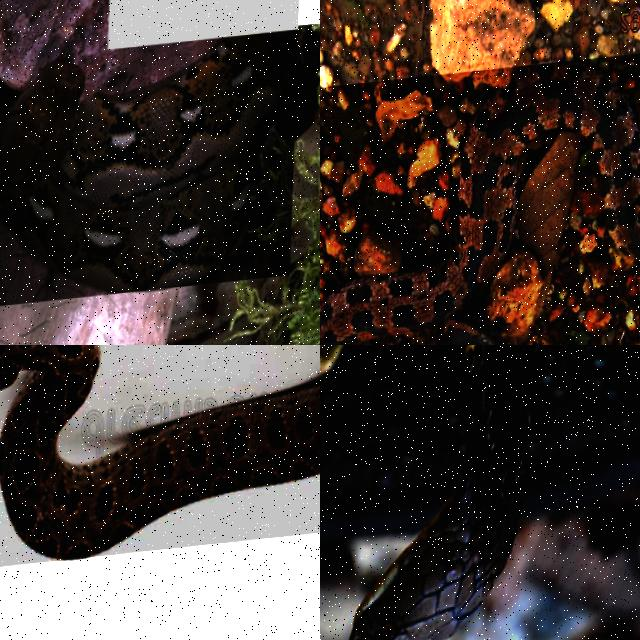Daboia siamensis: (0, 345, 319, 559)
Malayopython reticulatus: (0, 32, 297, 290)
Ophiophagus hannah: (320, 345, 639, 639)
Ovophis monticola: (320, 62, 639, 344)
